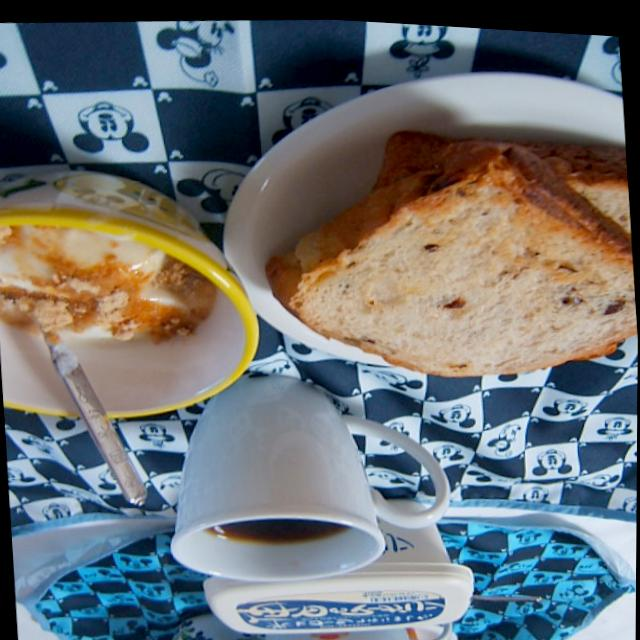面包点心: (299, 102, 639, 425)
